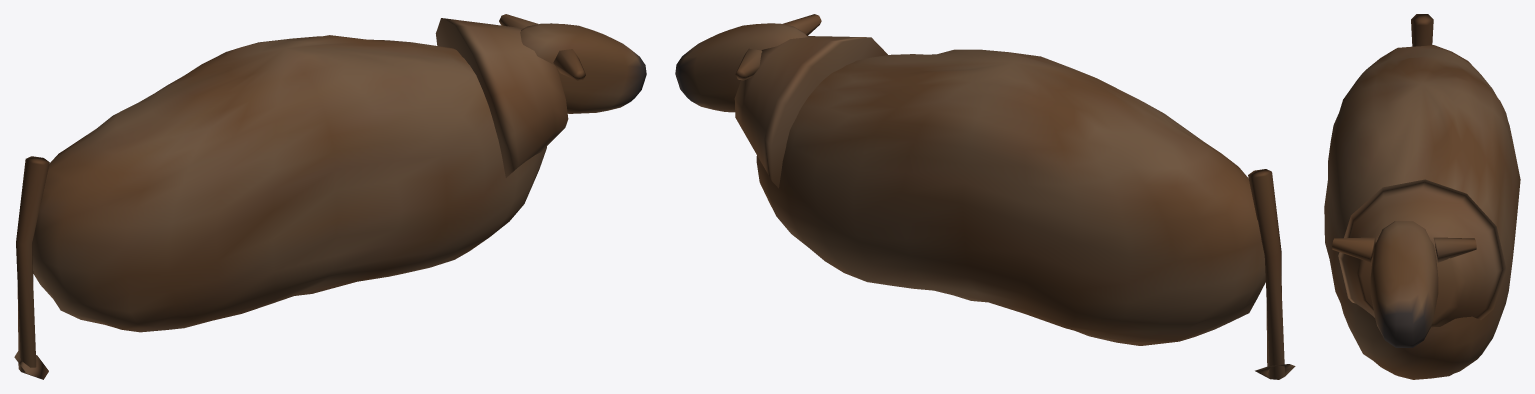
The model's file is SM_Animal_cow_lie_1.glb.
3 renders of one model, left to right at view 1: azimuth 30°, elevation 25°; view 2: azimuth 150°, elevation 25°; view 3: azimuth 270°, elevation 25°, orthographic. The views are drawn at different scales.
Visible parts, largest first — view 1: SM_Animal_cow_lie_1; view 2: SM_Animal_cow_lie_1; view 3: SM_Animal_cow_lie_1.
Boxes of the visible parts, x1,y1,x2,y2 form: SM_Animal_cow_lie_1: (14, 14, 646, 379); SM_Animal_cow_lie_1: (675, 14, 1295, 379); SM_Animal_cow_lie_1: (1324, 14, 1520, 379).
Size of the model in its own units: 2.34 by 0.9313 by 0.689.
